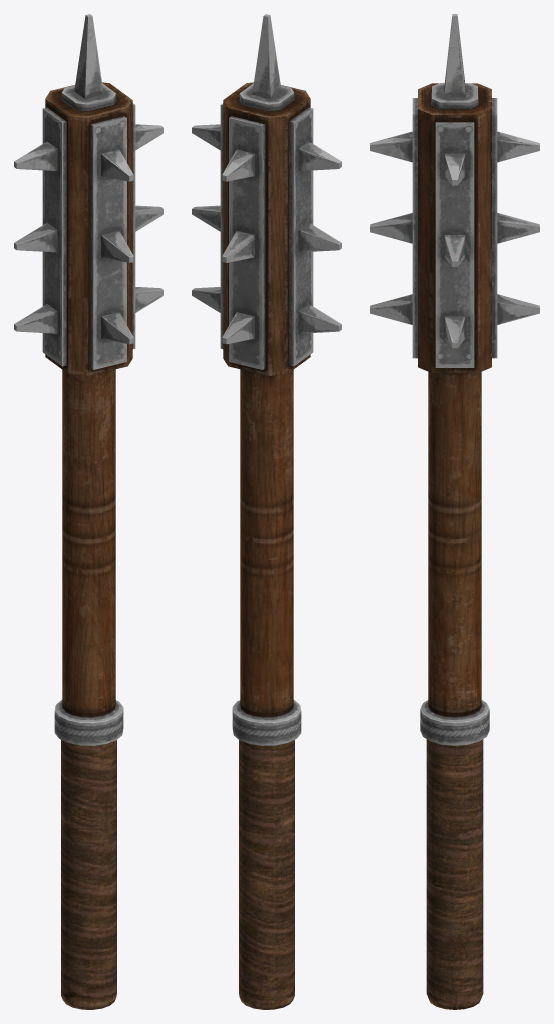
The model's file is Mace_02.fbx.
The picture shows the model from 3 angles, left to right: view 1: azimuth 30°, elevation 25°; view 2: azimuth 150°, elevation 25°; view 3: azimuth 270°, elevation 25°; orthographic projection.
Visible parts, largest first — view 1: Mace_02_LOD0; view 2: Mace_02_LOD0; view 3: Mace_02_LOD0.
Part boxes in pixels (left/top/right/bottom): Mace_02_LOD0: left=14, top=14, right=163, bottom=1009; Mace_02_LOD0: left=192, top=14, right=341, bottom=1009; Mace_02_LOD0: left=370, top=14, right=539, bottom=1009.
Size of what is drawn, in the model's own units: 9.74 by 62.36 by 9.74.
